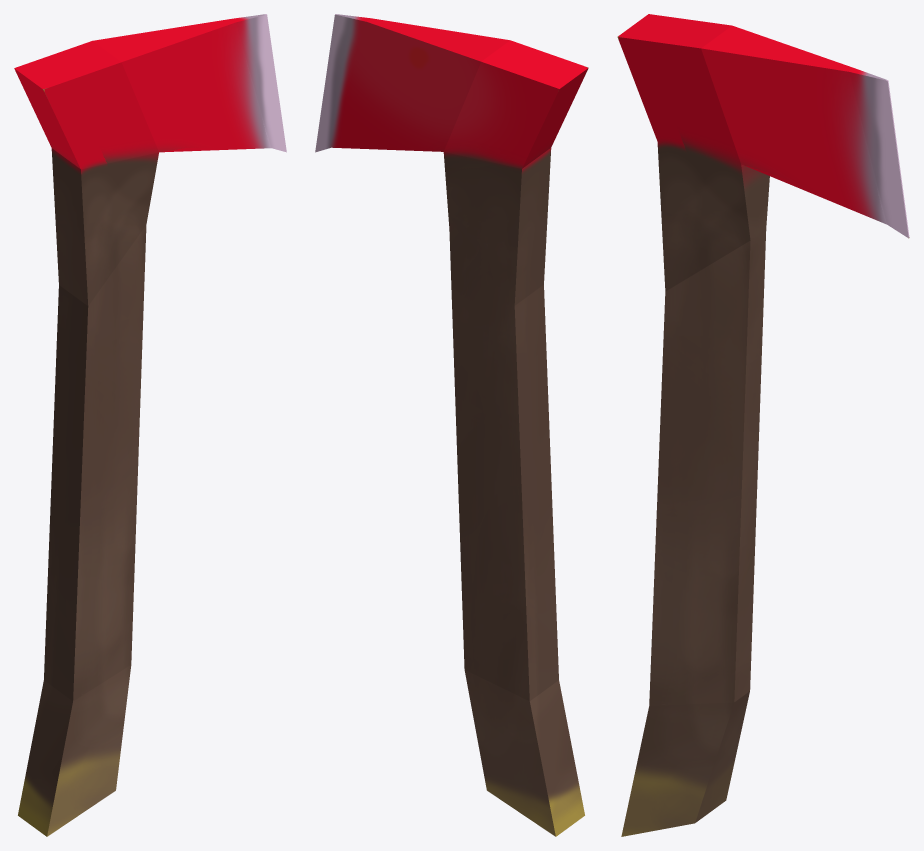
The model's file is bad-axe-01.fbx.
3 renders of one model, left to right at view 1: azimuth 30°, elevation 25°; view 2: azimuth 150°, elevation 25°; view 3: azimuth 330°, elevation 25°, orthographic. The views are drawn at different scales.
Parts seen in each view (by area): view 1: Cube; view 2: Cube; view 3: Cube.
Boxes of the visible parts, x1,y1,x2,y2 form: Cube: (14, 14, 286, 836); Cube: (315, 14, 588, 836); Cube: (617, 14, 909, 836).
Size of the model in its own units: 3.12 by 8.75 by 0.6129.
1 material, 1 textured.
